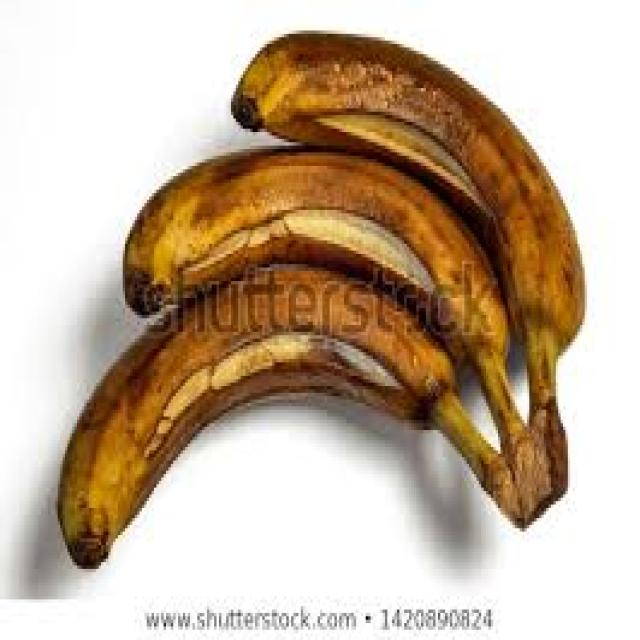food_waste: (58, 34, 582, 562)
